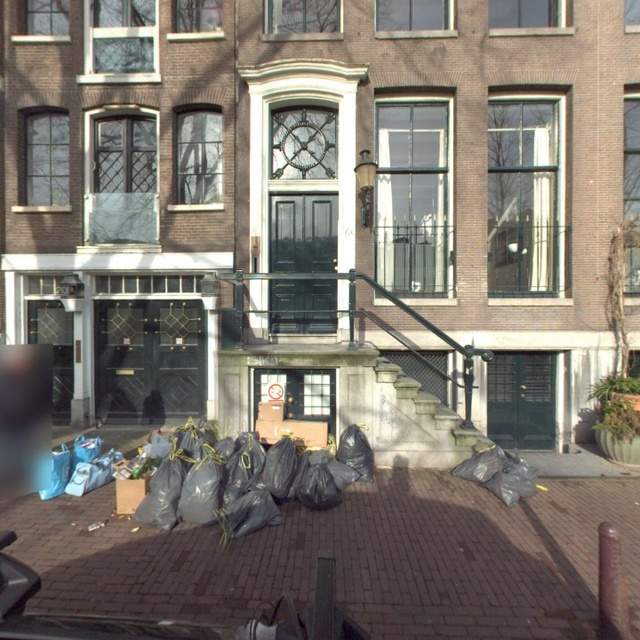Bulky Waste: (52, 423, 375, 529)
Garbage Bags: (459, 443, 539, 504)
